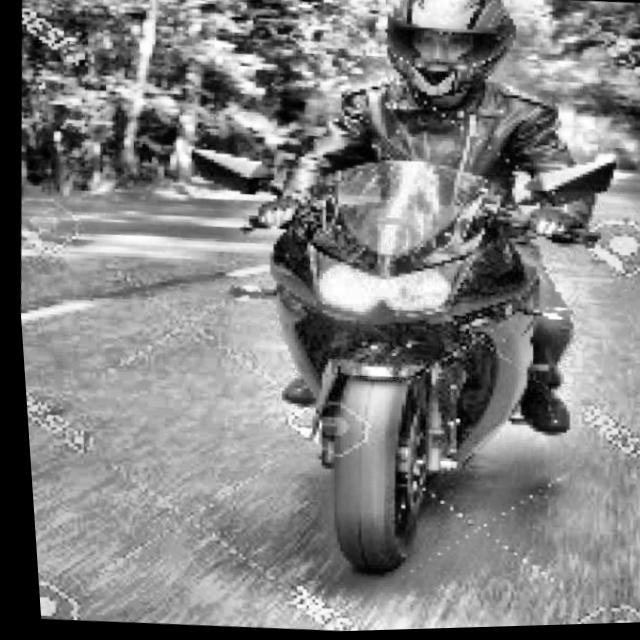motorcycle: (143, 108, 640, 602)
